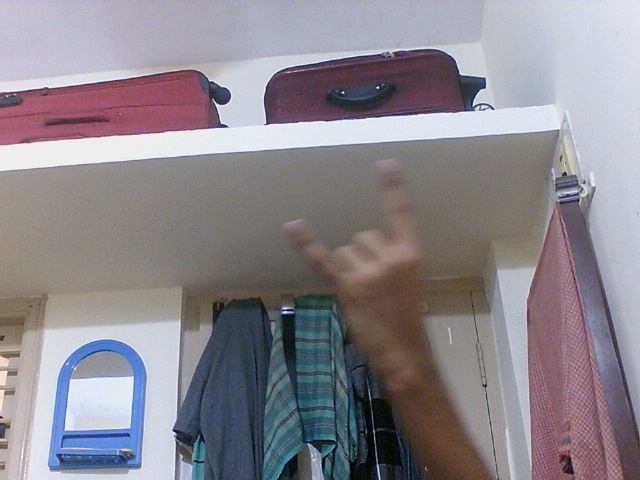hand: (284, 155, 438, 384)
